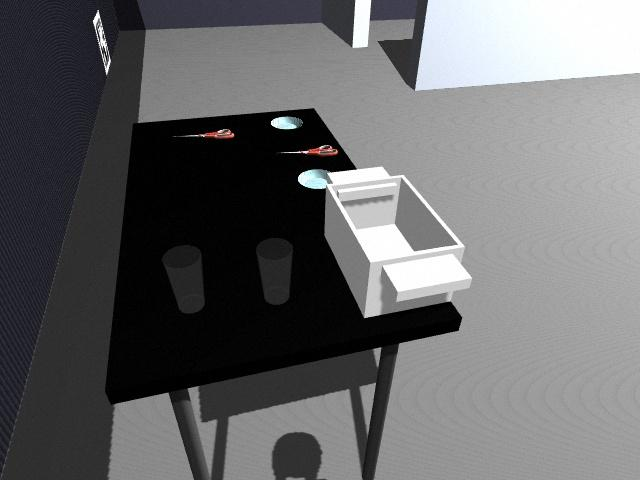cup: (163, 249, 205, 312), (255, 238, 293, 304)
plate: (297, 168, 330, 190), (270, 115, 304, 130)
scissors: (276, 145, 337, 157), (175, 129, 235, 140)
